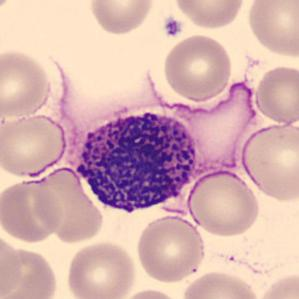Basophil: (66, 98, 207, 222)
Platelets: (161, 14, 184, 40)
RBC: (32, 167, 105, 243), (184, 168, 262, 238), (160, 32, 235, 102), (134, 214, 208, 284), (238, 119, 298, 204), (0, 112, 69, 179), (64, 238, 138, 299), (0, 177, 65, 245), (0, 47, 52, 120), (244, 0, 299, 60), (252, 62, 299, 127), (0, 247, 57, 299), (179, 268, 260, 299), (86, 0, 155, 36), (172, 0, 247, 29), (0, 235, 25, 298), (255, 271, 299, 299), (116, 286, 185, 299), (0, 0, 15, 18)
